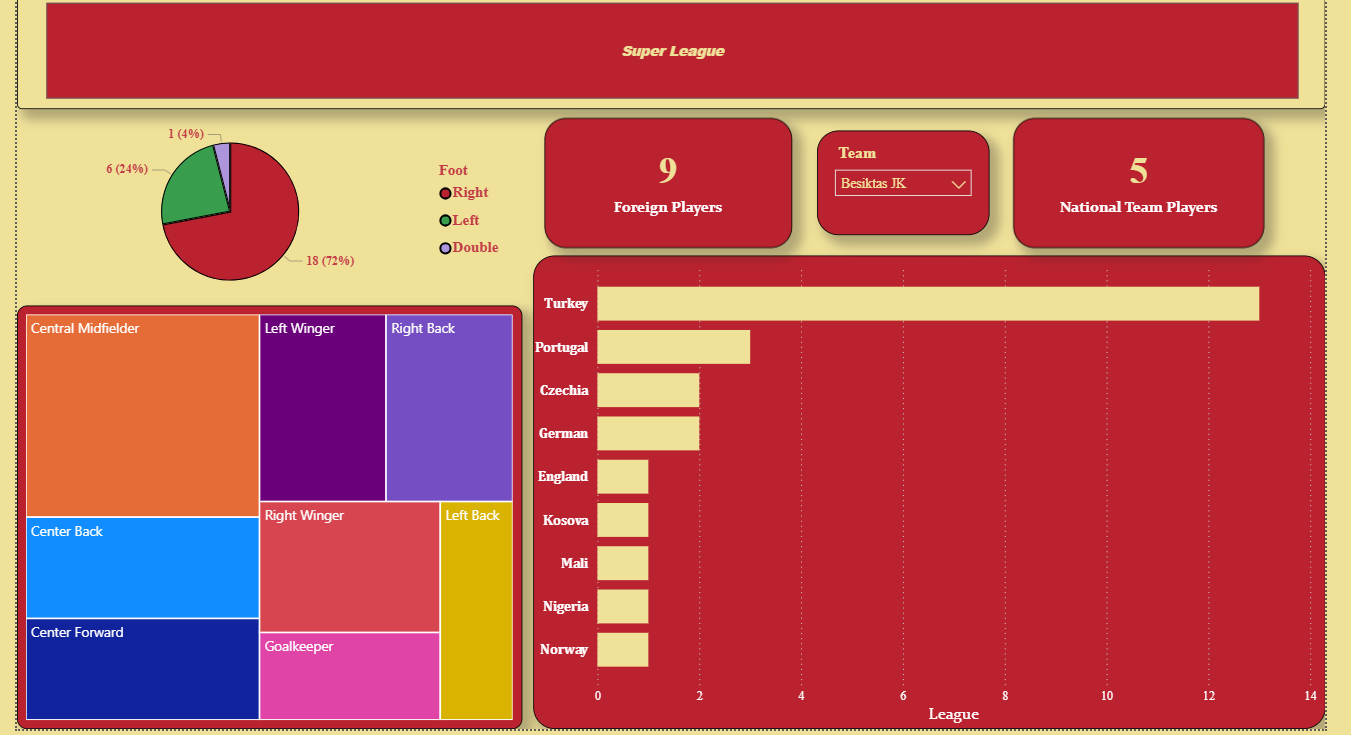

The dashboard page shown, as its layout file describes it:
{"tool":"powerbi","page":{"name":"League","canvas":[1280,720],"ordinal":4},"visuals":[{"type":"treemap","fields":{"Values":["CountNonNull(Players.Player)"],"Group":["Players.Position"]},"box":[0,305.7,494,414.5],"z":0},{"type":"slicer","fields":{"Values":["Players.League"]},"box":[0,0,1280.3,113.7],"z":1000},{"type":"clusteredBarChart","fields":{"Category":["Players.Nationality"],"Y":["CountNonNull(Players.League)"]},"box":[505,256.8,775.3,463.5],"z":2000},{"type":"pieChart","fields":{"Category":["Players.Foot"],"Y":["CountNonNull(Players.Foot)"]},"box":[0,122.3,485.5,183.4],"z":3000},{"type":"advanceCardE03760C5AB684758B56AA29F9E6C257B","fields":{"mainMeasure":["Max(Clubs.National_team_players)"]},"box":[974.6,122.3,245.8,127.2],"z":4000},{"type":"advanceCardE03760C5AB684758B56AA29F9E6C257B","fields":{"mainMeasure":["Max(Clubs.Foreign_players)"]},"box":[516,122.3,242.1,127.2],"z":5000},{"type":"slicer","fields":{"Values":["Clubs.Team"]},"box":[782.6,134.5,168.8,102.7],"z":6000}]}

Visuals, with their boxes on the page's 1280x720 design canvas (x1, y1, x2, y2). These are canvas units, not pixel positions in the 1351x735 screenshot, which may show the page scaled, cropped or inside an application window:
treemap - CountNonNull(Players.Player) x Players.Position: Rect(0, 306, 494, 720)
slicer - Players.League: Rect(0, 0, 1280, 114)
clusteredBarChart - Players.Nationality x CountNonNull(Players.League): Rect(505, 257, 1280, 720)
pieChart - Players.Foot x CountNonNull(Players.Foot): Rect(0, 122, 486, 306)
advanceCardE03760C5AB684758B56AA29F9E6C257B - Max(Clubs.National_team_players): Rect(975, 122, 1220, 250)
advanceCardE03760C5AB684758B56AA29F9E6C257B - Max(Clubs.Foreign_players): Rect(516, 122, 758, 250)
slicer - Clubs.Team: Rect(783, 134, 951, 237)
